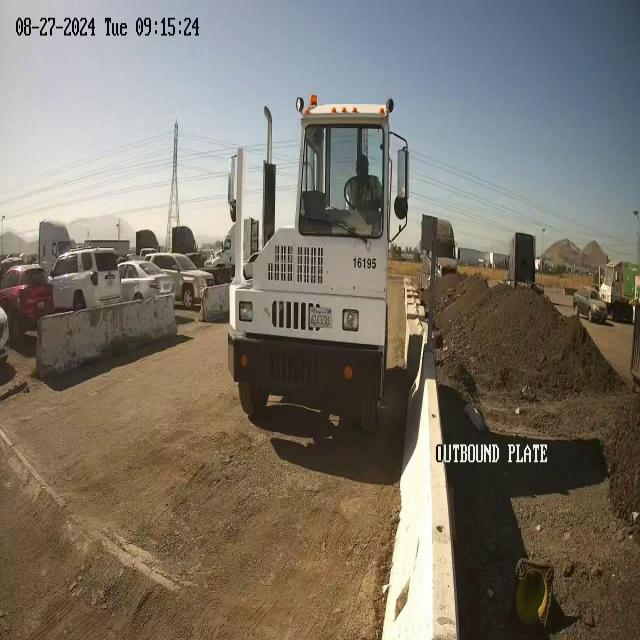TRUCK_OUT: (225, 92, 422, 436)
